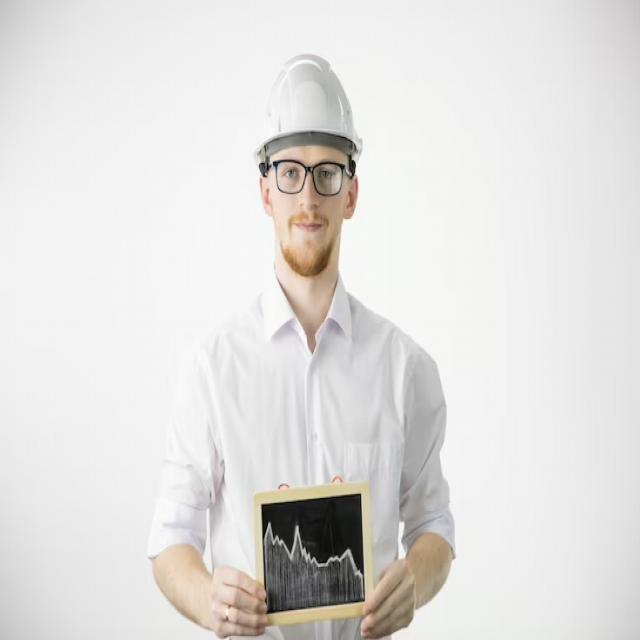helmet: (246, 42, 364, 173)
